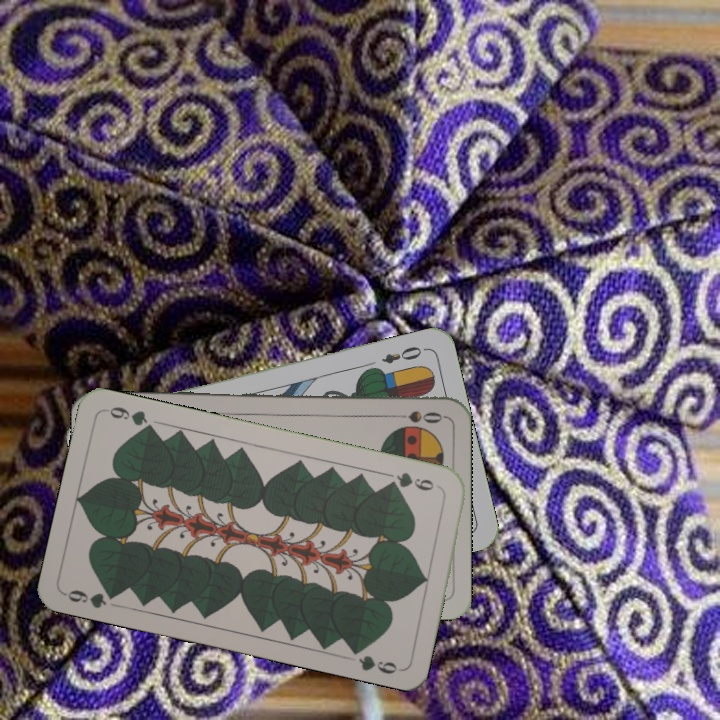EO: (378, 342, 429, 366)
G9: (383, 468, 443, 494), (61, 586, 122, 611)
SO: (386, 406, 445, 425)
